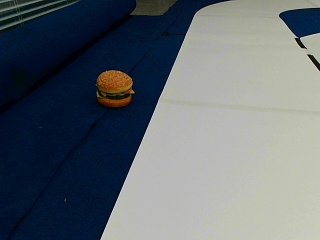burger: (95, 69, 133, 106)
